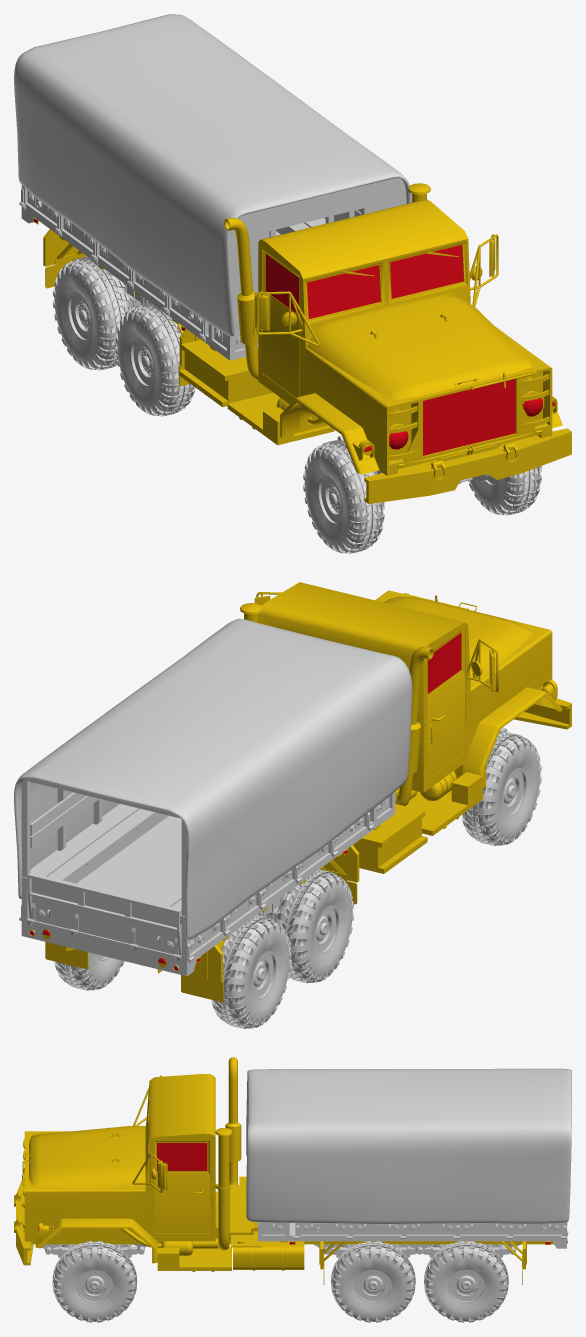
The model's file is MilitaryTruckOverdekt+KlepRealsize.fbx.
3 views of the same model, one above another, from view 1: azimuth 30°, elevation 25°; view 2: azimuth 150°, elevation 25°; view 3: azimuth 270°, elevation 25° (orthographic). The views are drawn at different scales.
Visible parts, largest first — view 1: AchterOverdekt, TruckVoorkant, Cube.004, TruckOnderkant, Cube.006, Cube.005; view 2: AchterOverdekt, TruckVoorkant, TruckOnderkant, Cube.006, Achterkantklep, Cube.005, Cube.004; view 3: AchterOverdekt, TruckVoorkant, TruckOnderkant, Cube.006, Cube.004, Cube.005, Veringen.
Boxes of the visible parts, <box> form: AchterOverdekt: <box>14,14,411,360</box>; TruckVoorkant: <box>224,183,571,503</box>; Cube.004: <box>303,440,541,553</box>; TruckOnderkant: <box>33,217,334,445</box>; Cube.006: <box>53,256,131,370</box>; Cube.005: <box>115,302,195,416</box>; AchterOverdekt: <box>14,618,412,976</box>; TruckVoorkant: <box>240,582,571,805</box>; TruckOnderkant: <box>29,771,482,1002</box>; Cube.006: <box>54,915,291,1028</box>; Achterkantklep: <box>27,872,181,957</box>; Cube.005: <box>275,869,353,983</box>; Cube.004: <box>461,732,541,845</box>; AchterOverdekt: <box>246,1068,571,1248</box>; TruckVoorkant: <box>14,1057,241,1265</box>; TruckOnderkant: <box>31,1176,567,1284</box>; Cube.006: <box>424,1241,508,1322</box>; Cube.004: <box>52,1241,137,1322</box>; Cube.005: <box>331,1241,415,1322</box>; Veringen: <box>35,1244,521,1257</box>.
Size of the model in its own units: 294 by 309 by 791.
